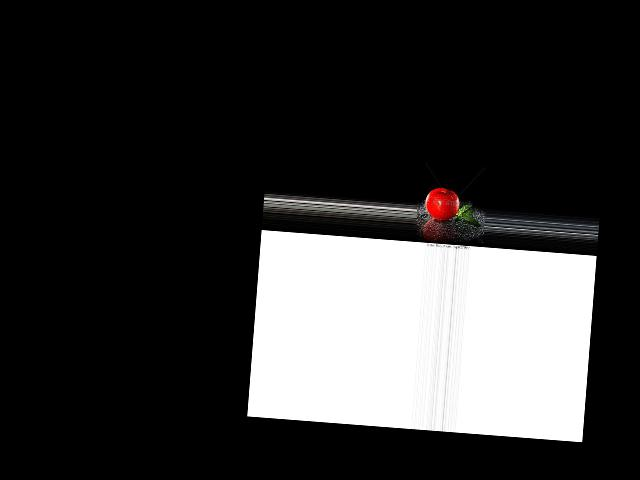tomato: (424, 186, 460, 221)
